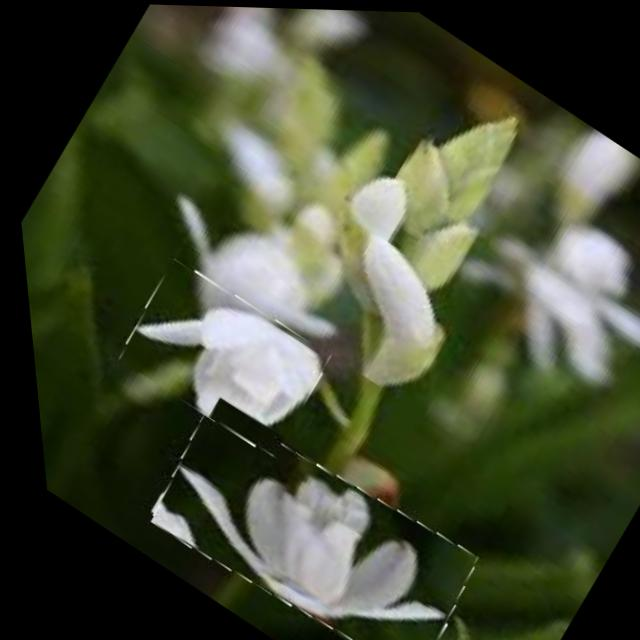Flower: (125, 389, 477, 640), (102, 254, 333, 461)
